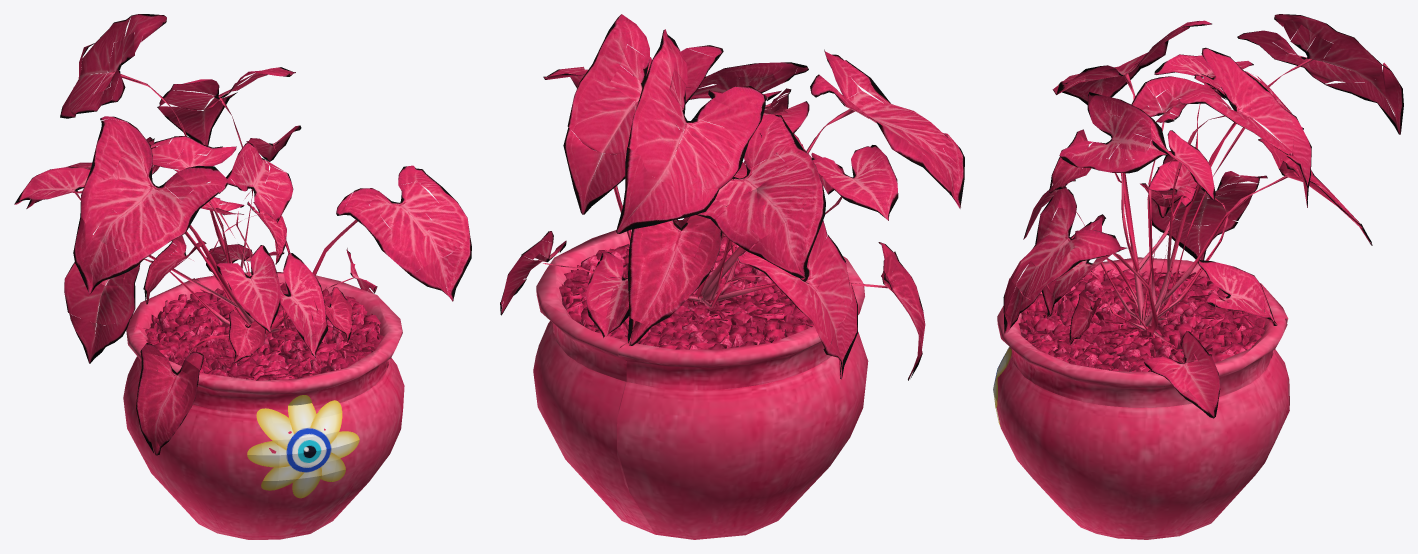
Rendered from nyb_bigbusiness_planter.glb.
3 renders of one model, left to right at view 1: azimuth 30°, elevation 25°; view 2: azimuth 150°, elevation 25°; view 3: azimuth 270°, elevation 25°, orthographic. The views are drawn at different scales.
Parts seen in each view (by area): view 1: potted_plant_02_pot, stk_eyeflower_gold.png; view 2: potted_plant_02_pot; view 3: potted_plant_02_pot.
Boxes of the visible parts, x1,y1,x2,y2 form: potted_plant_02_pot: (14,14,471,539); stk_eyeflower_gold.png: (247,395,359,498); potted_plant_02_pot: (500,14,964,539); potted_plant_02_pot: (996,14,1403,539).
Bounding box in the file's own units: 0.7008 × 0.8423 × 0.6593.
3 materials, 3 textured.
